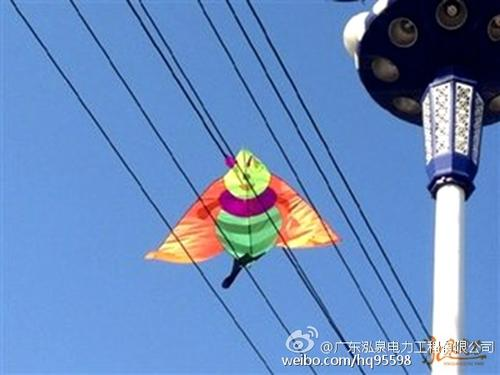kite: (144, 148, 348, 289)
